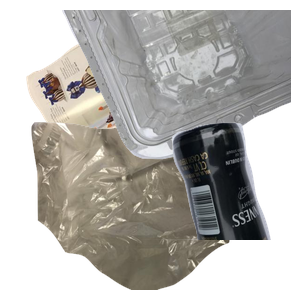glass: (106, 120, 300, 300)
paper: (24, 10, 235, 190)
plastic: (60, 10, 300, 162)
trash: (29, 120, 265, 300)
